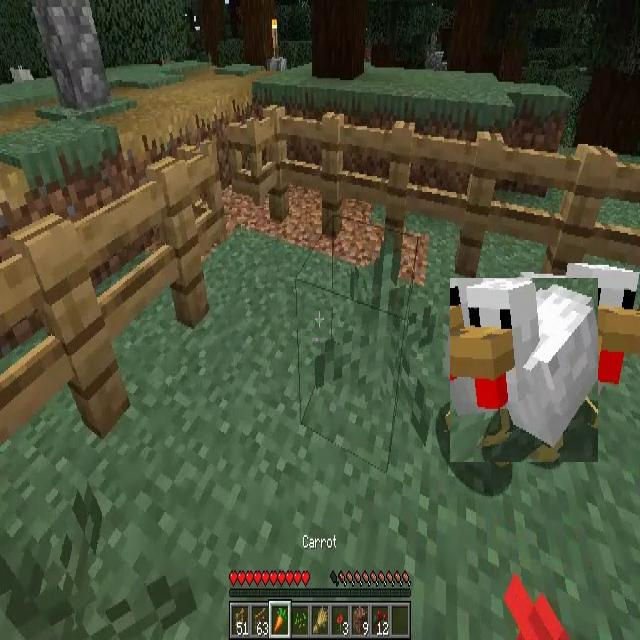duck: (450, 278, 598, 462), (535, 266, 639, 446)
